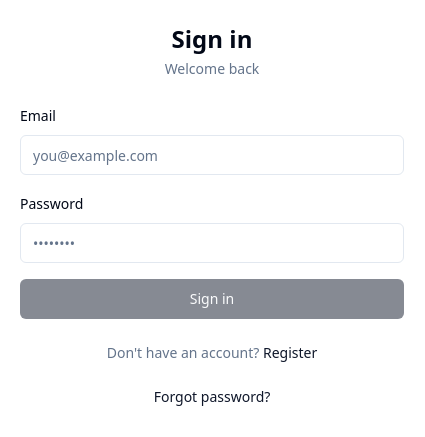
LoginPage › UI-AUTH-LOGIN-S2: shows "Invalid email or password", clears password field, and retains email on 401 (FR-UI-AUTH-3)
Type "user@example.com" into the field named "email".
click(212, 155); type("user@example.com")  # box [20,135,404,175]
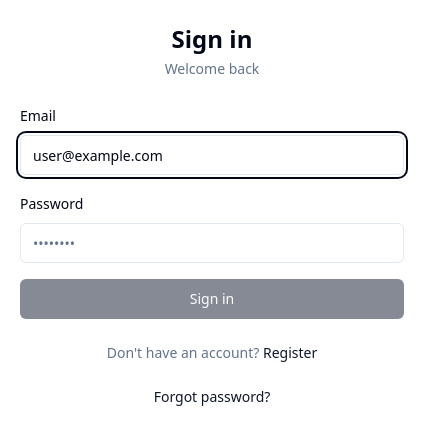
Type "WrongPassword1" into the password field named "password".
click(212, 243); type("WrongPassword1")  # box [20,223,404,263]
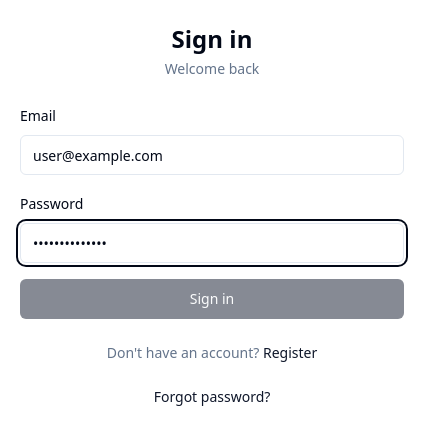
Press Tab
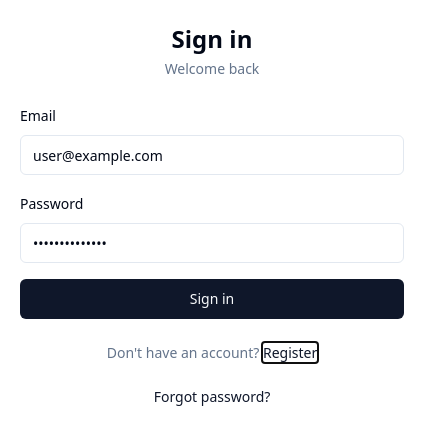
Click the button "Sign in".
click(212, 299)  # box [20,279,404,319]
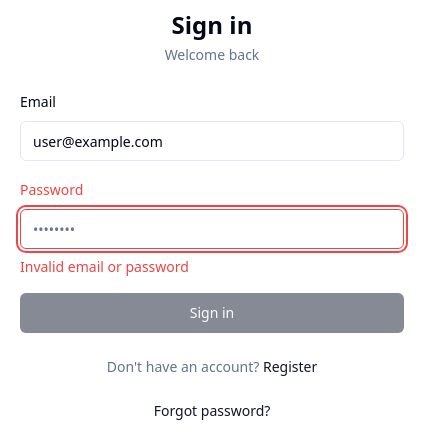
Expected: the text "Invalid email or password" is shown, [20,257,189,276]
Expected: the password field named "password" is empty, [20,209,404,249]
